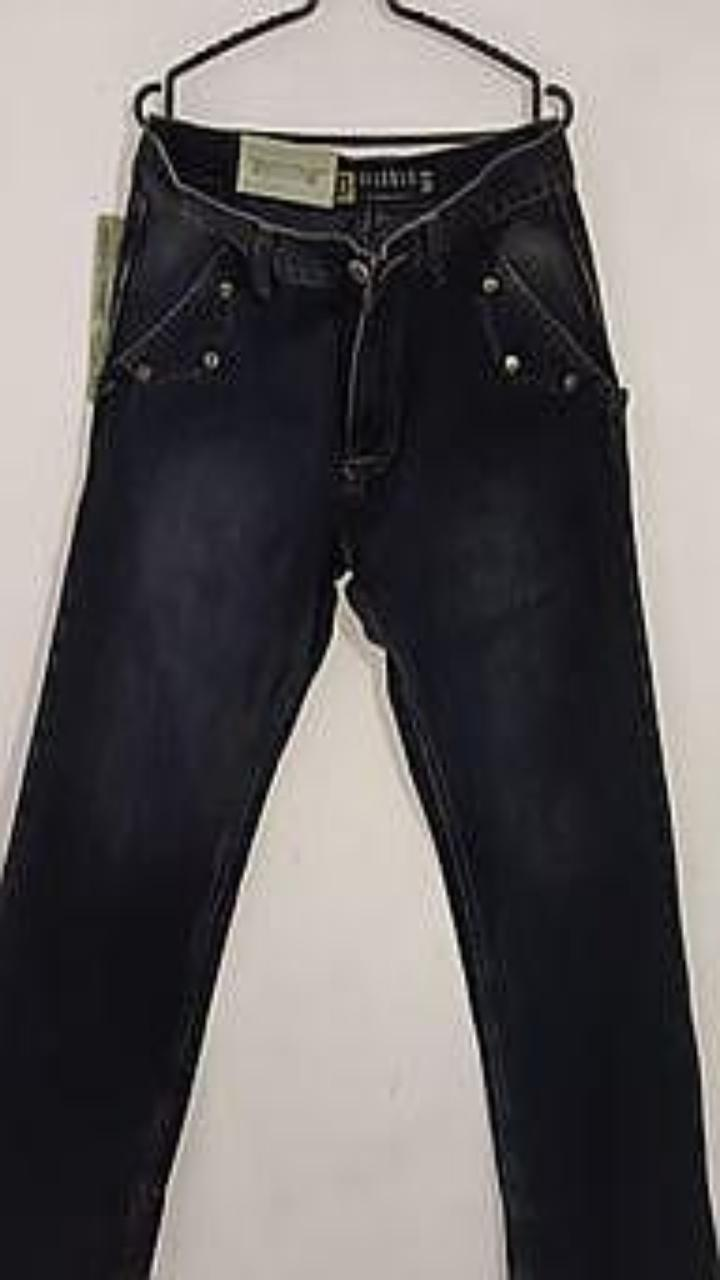Jeans: (0, 115, 719, 1279)
